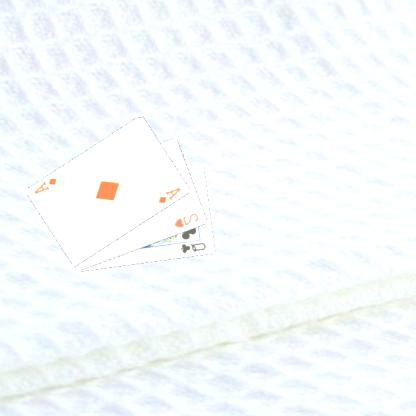2H: (173, 210, 202, 229)
AD: (157, 184, 184, 205), (34, 175, 61, 195)
QC: (180, 240, 209, 255)
